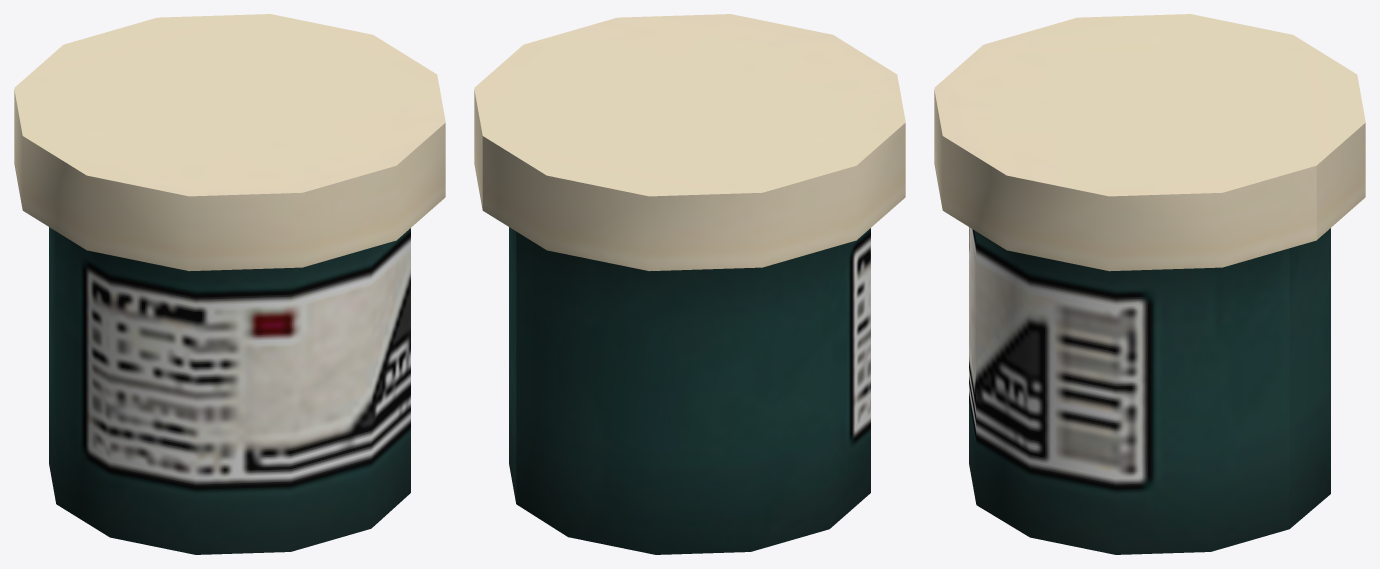
Rendered from medicine03.fbx.
3 renders of one model, left to right at view 1: azimuth 30°, elevation 25°; view 2: azimuth 150°, elevation 25°; view 3: azimuth 270°, elevation 25°, orthographic.
Parts seen in each view (by area): view 1: medicine03; view 2: medicine03; view 3: medicine03.
Boxes of the visible parts, box(x1,y1,x2,y2) form: medicine03: box(14, 14, 445, 554); medicine03: box(474, 14, 905, 554); medicine03: box(934, 14, 1365, 554).
Bounding box in the file's own units: 4.86 × 4.64 × 4.86.
Materials: 1 (1 with a texture image).
